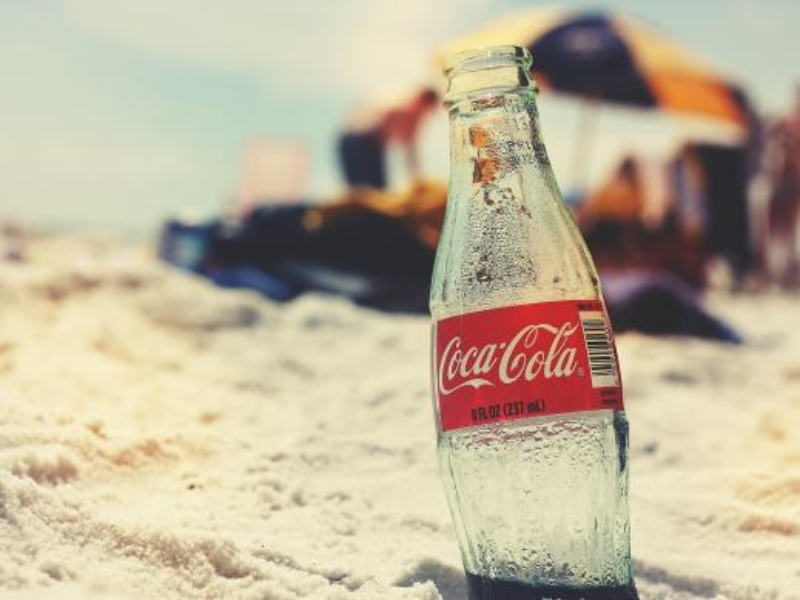Glass bottle: (372, 23, 670, 593)
